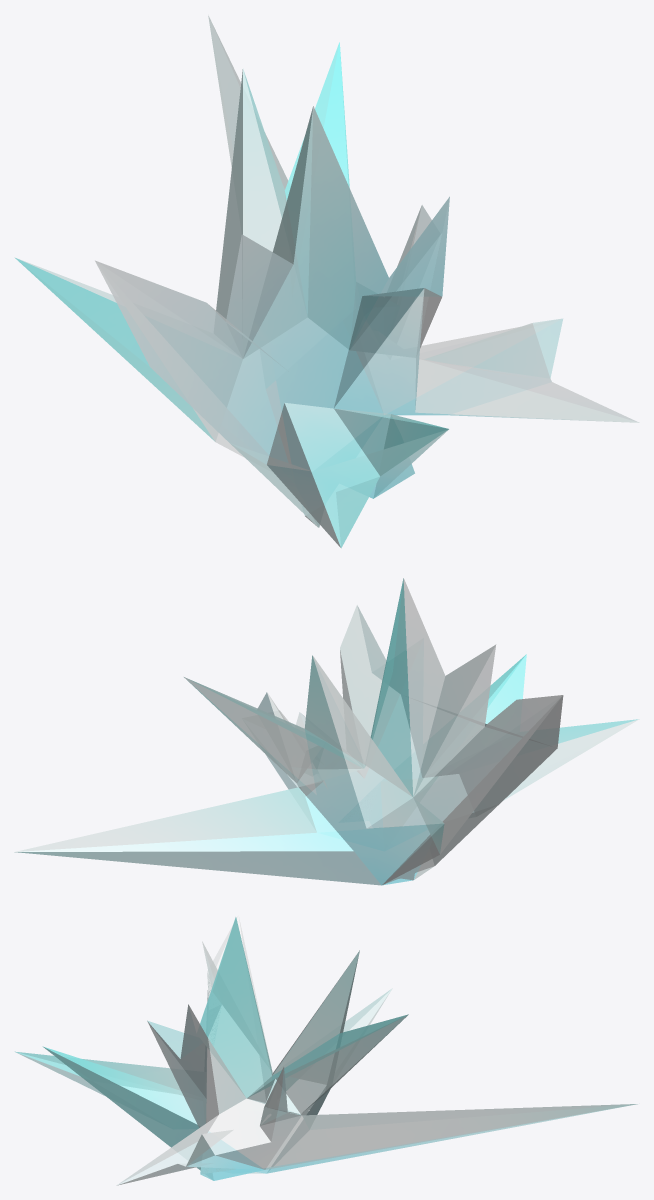
The model's file is VoidDiamond_LOD.glb.
3 renders of one model, top to bottom at view 1: azimuth 30°, elevation 25°; view 2: azimuth 150°, elevation 25°; view 3: azimuth 270°, elevation 25°, orthographic. The views are drawn at different scales.
Parts seen in each view (by area): view 1: LowLOD; view 2: LowLOD; view 3: LowLOD.
Part boxes in pixels (x1=…): LowLOD: x1=14, y1=15, x2=639, y2=548; LowLOD: x1=14, y1=578, x2=639, y2=885; LowLOD: x1=14, y1=915, x2=637, y2=1185.
Size of the model in its own units: 1.73 by 1.49 by 3.23.
Materials: 1 (1 with a texture image).
